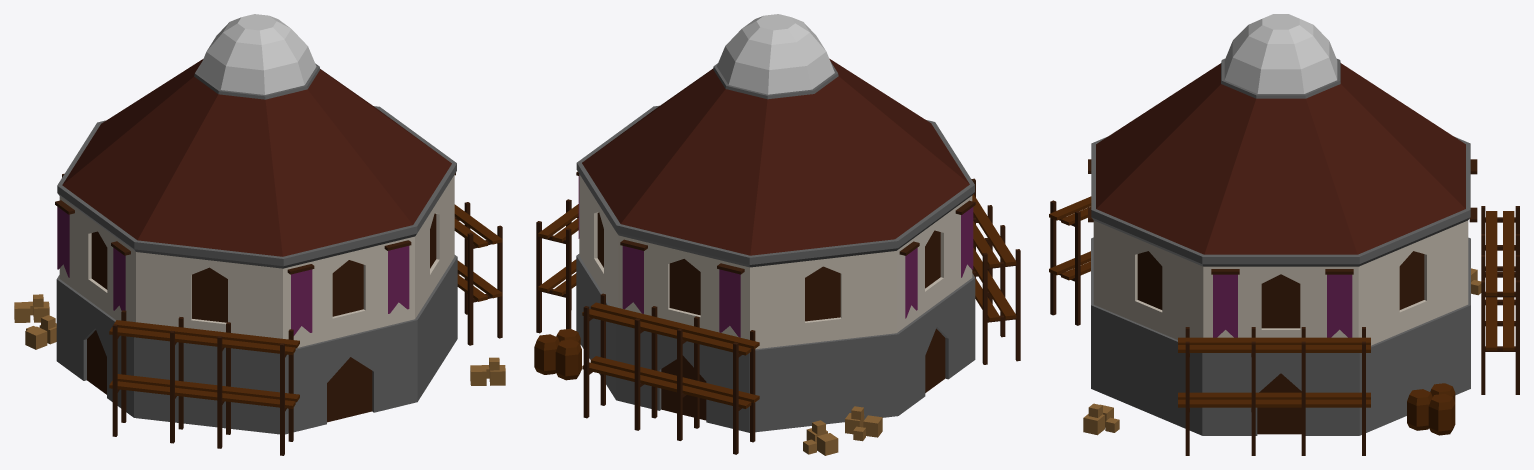
The model's file is LibraryBuildPhase3v1.fbx.
3 views of the same model, side by side, from view 1: azimuth 30°, elevation 25°; view 2: azimuth 150°, elevation 25°; view 3: azimuth 270°, elevation 25° (orthographic). The views are drawn at different scales.
Visible parts, largest first — view 1: Circle.056; view 2: Circle.056; view 3: Circle.056.
Part boxes in pixels (<box>): Circle.056: <box>14,14,505,455</box>; Circle.056: <box>534,14,1020,455</box>; Circle.056: <box>1049,14,1519,455</box>.
Size of the model in its own units: 245 by 196 by 250.
